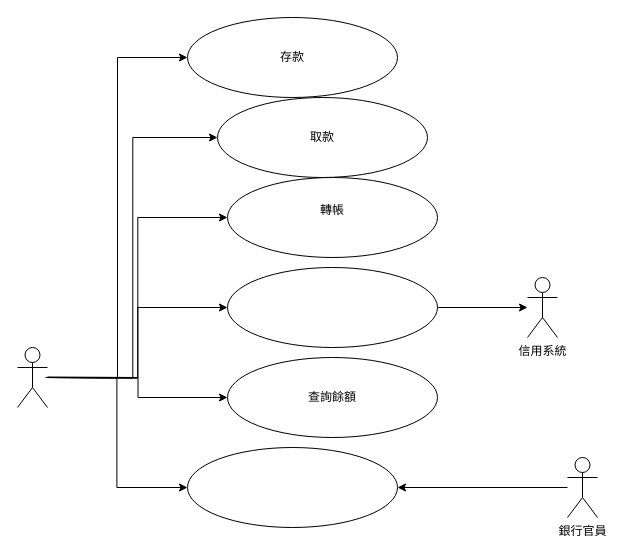
This 624x556 diagram has some shape labels left out. The shapes that lost their labels are listed below. From the top down, each one's centre as x and y in pixels, then its label:
At pixel 332 307: "付款".
At pixel 32 377: "客戶".
At pixel 292 487: "改變PIN".
